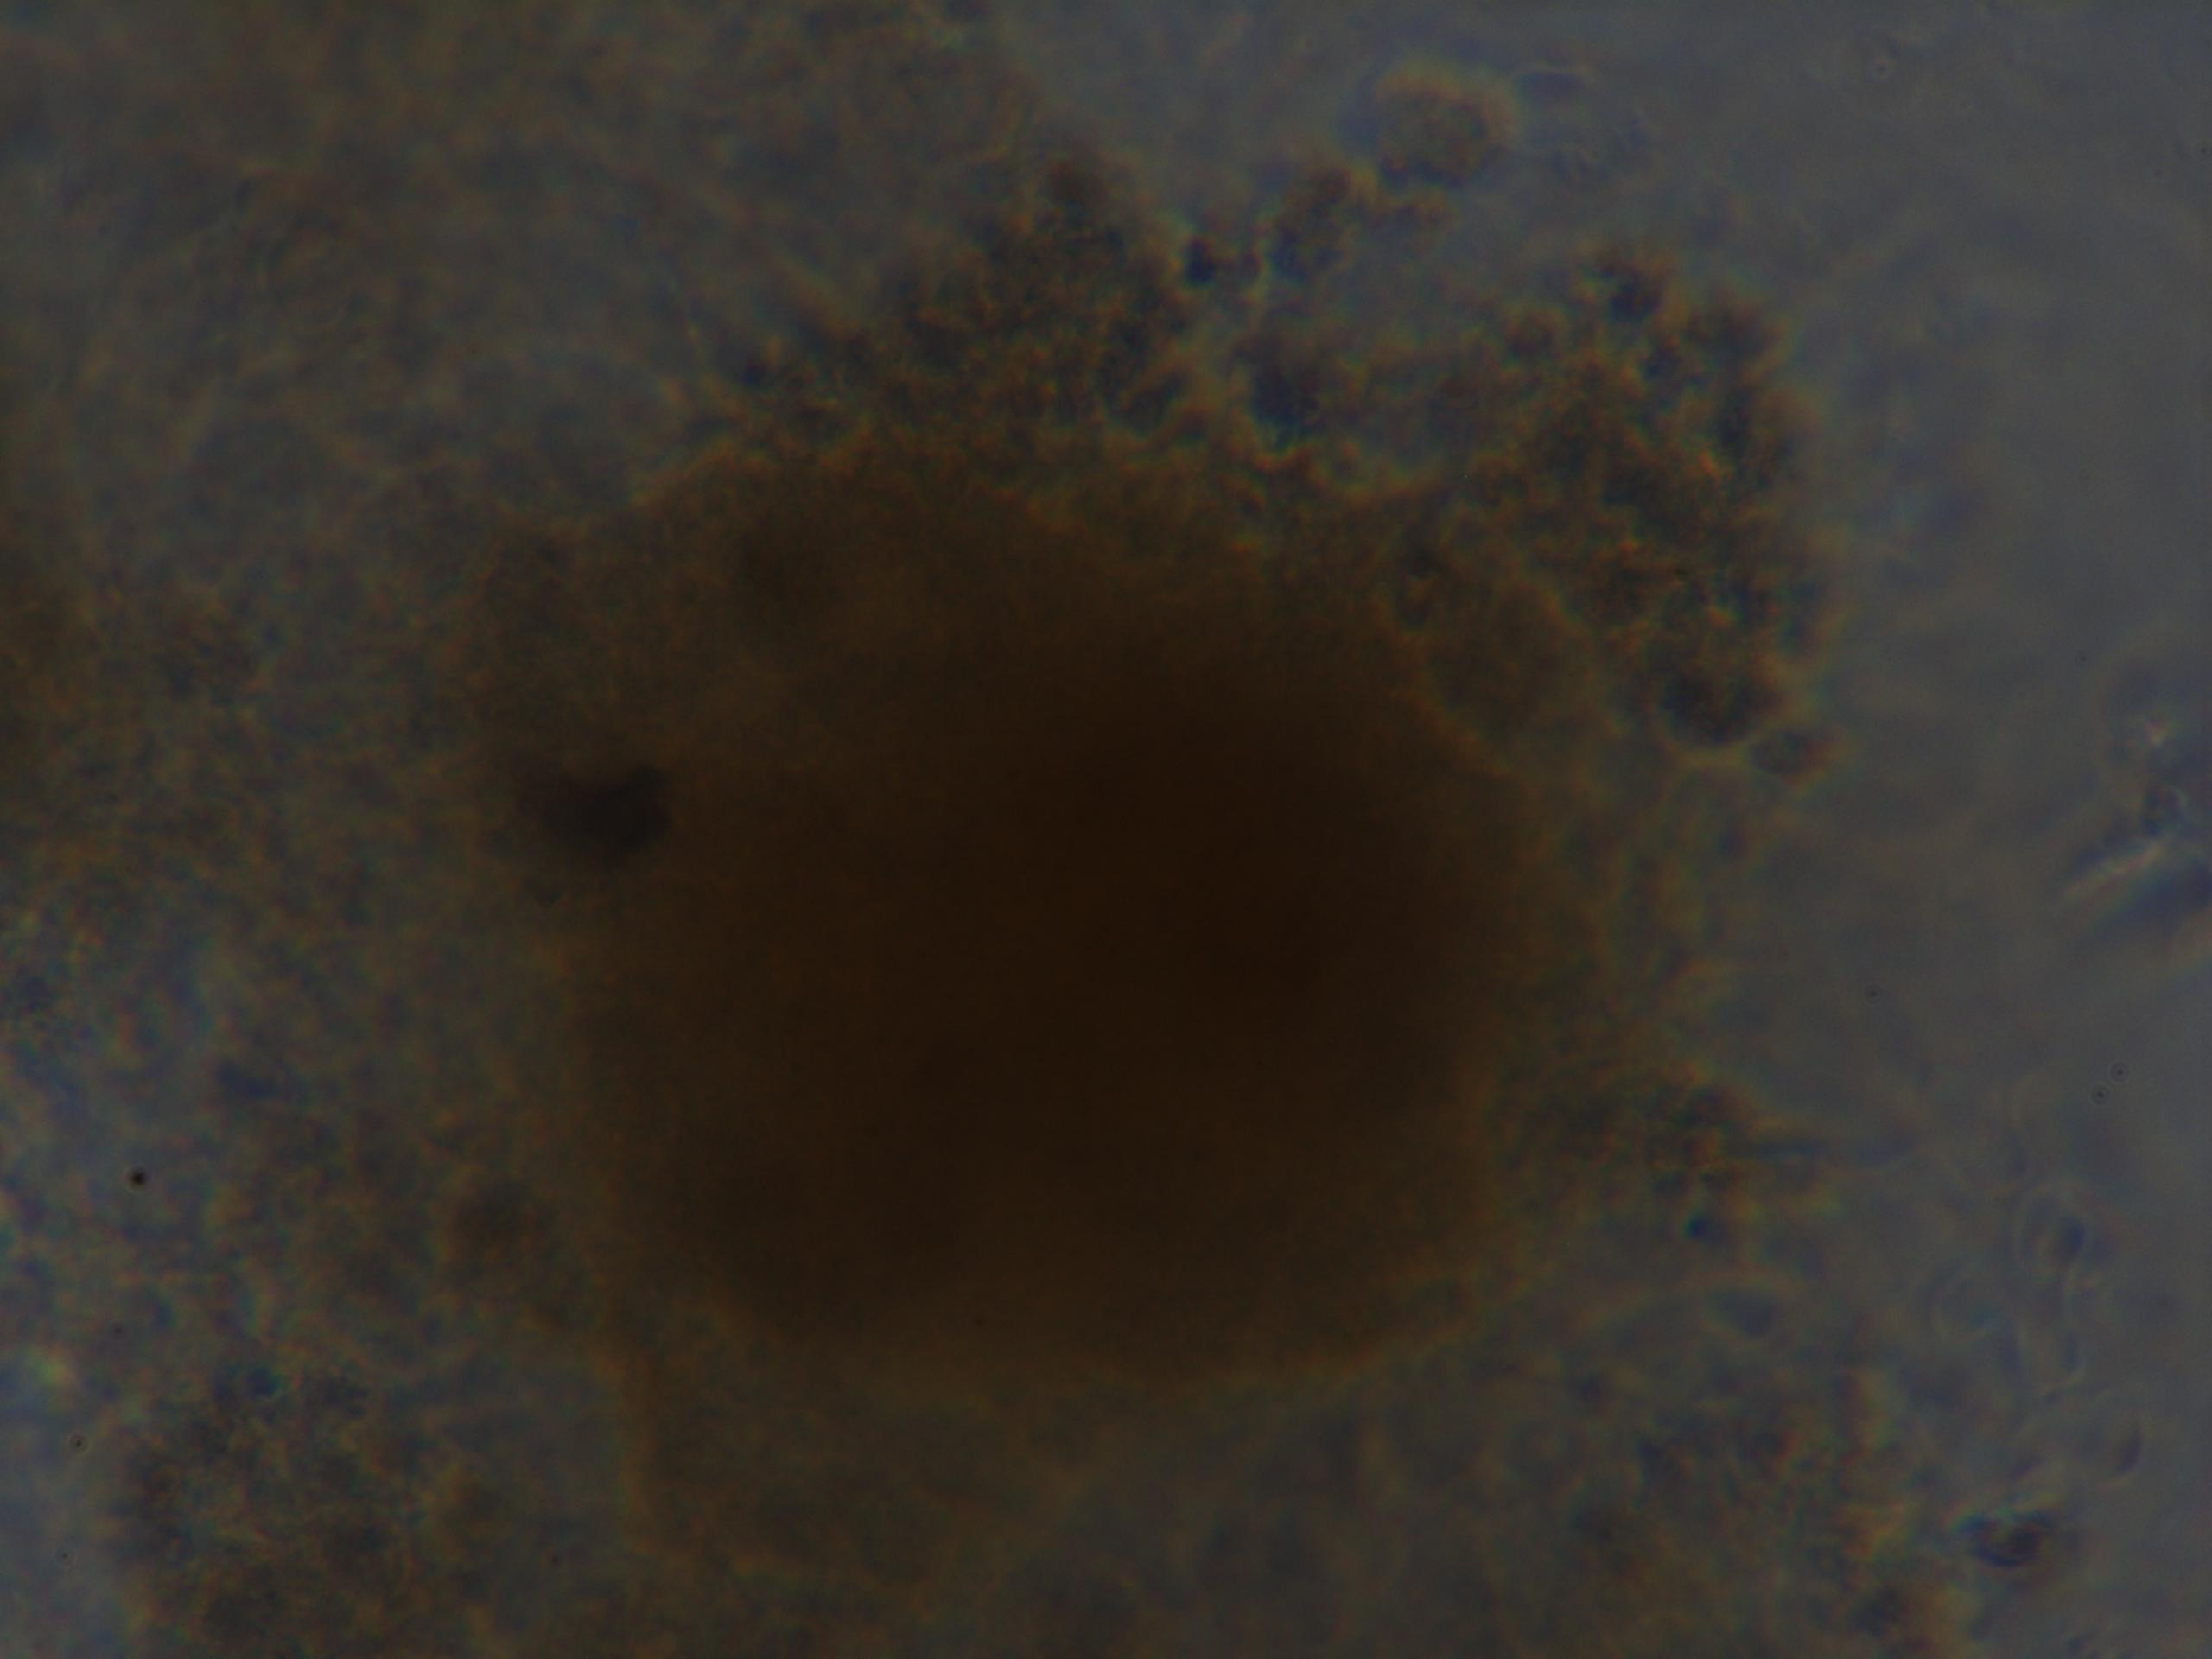spherical_floc: (415, 328, 1761, 1443)
